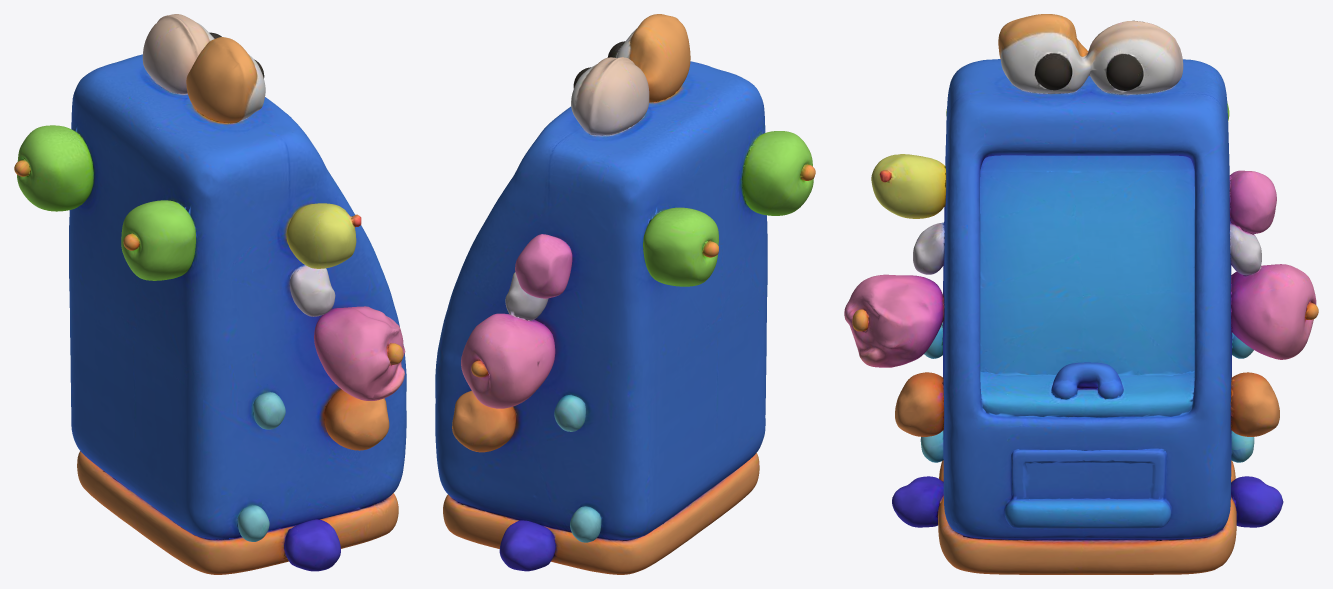
File: env_nest_arcade_01.glb
3 views of the same model, side by side, from view 1: azimuth 30°, elevation 25°; view 2: azimuth 150°, elevation 25°; view 3: azimuth 270°, elevation 25° (orthographic). The views are drawn at different scales.
Parts seen in each view (by area): view 1: tripo_node_9b7d36c8-e0b3-41a5-b269-42bccebbcf2a; view 2: tripo_node_9b7d36c8-e0b3-41a5-b269-42bccebbcf2a; view 3: tripo_node_9b7d36c8-e0b3-41a5-b269-42bccebbcf2a.
Boxes of the visible parts, x1,y1,x2,y2 form: tripo_node_9b7d36c8-e0b3-41a5-b269-42bccebbcf2a: (14, 14, 406, 574); tripo_node_9b7d36c8-e0b3-41a5-b269-42bccebbcf2a: (435, 14, 815, 574); tripo_node_9b7d36c8-e0b3-41a5-b269-42bccebbcf2a: (844, 14, 1318, 574).
Bounding box in the file's own units: 1.21 × 1.9 × 1.64.
1 material, 1 textured.
